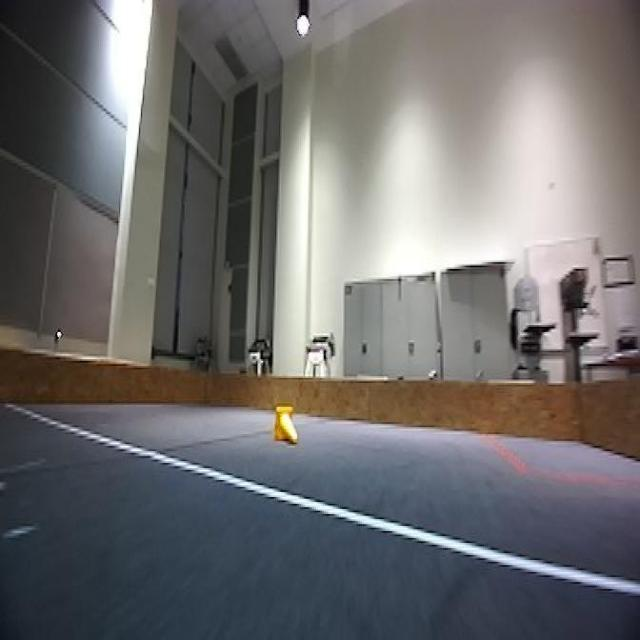frc_cone: (272, 407, 298, 446)
